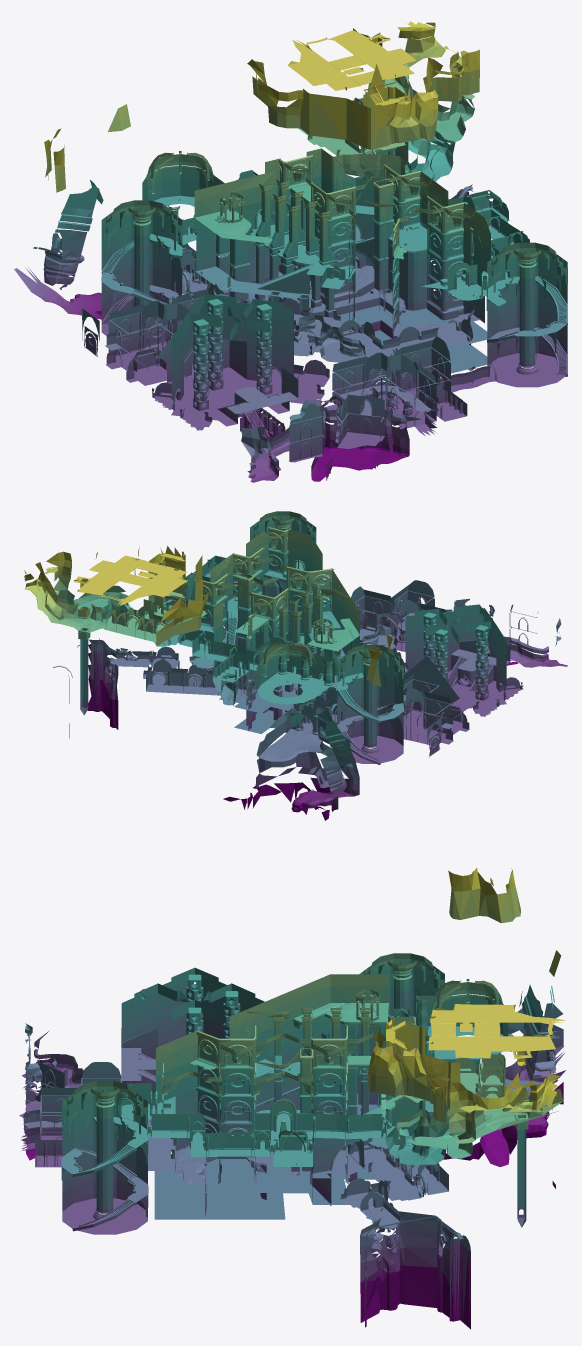
Rendered from 420_MAUS_mid.glb.
The picture shows the model from 3 angles, top to bottom: view 1: azimuth 30°, elevation 25°; view 2: azimuth 150°, elevation 25°; view 3: azimuth 270°, elevation 25°; orthographic projection. The views are drawn at different scales.
Visible parts, largest first — view 1: walls, floors, water; view 2: walls, floors, water; view 3: walls, floors, water.
Boxes of the visible parts, bbox=[...] form: walls: bbox=[33, 22, 567, 478]; floors: bbox=[14, 21, 567, 482]; water: bbox=[248, 271, 487, 373]; walls: bbox=[24, 511, 561, 820]; floors: bbox=[24, 525, 567, 812]; water: bbox=[219, 683, 310, 733]; walls: bbox=[21, 868, 565, 1329]; floors: bbox=[19, 971, 565, 1272]; water: bbox=[154, 1104, 412, 1219].
Bounding box in the file's own units: 235 × 132 × 245.
